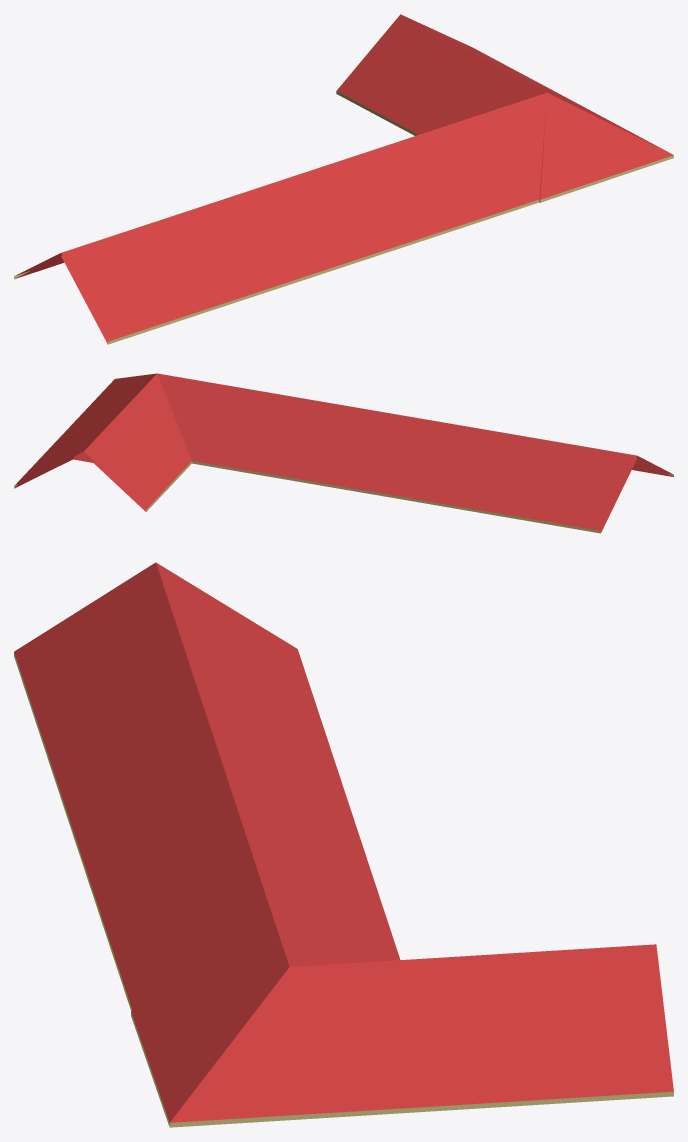
The picture shows the model from 3 angles, top to bottom: view 1: azimuth 30°, elevation 25°; view 2: azimuth 150°, elevation 25°; view 3: azimuth 270°, elevation 25°; orthographic projection. The views are drawn at different scales.
Bounding box in the file's own units: 21.31 × 12.54 × 1.95.
